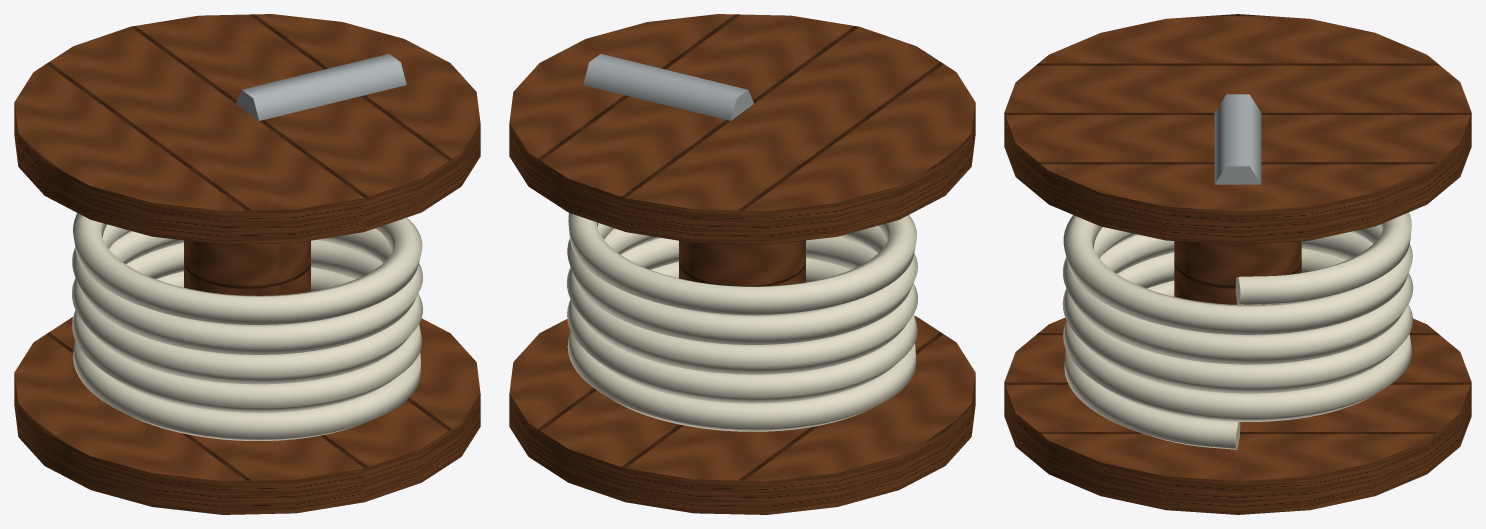
File: creature-husbandry-and-transport-lead-rope-reel-b4b7af09__24019.glb
3 renders of one model, left to right at view 1: azimuth 30°, elevation 25°; view 2: azimuth 150°, elevation 25°; view 3: azimuth 270°, elevation 25°, orthographic.
Parts seen in each view (by area): view 1: lead-rope-reel; view 2: lead-rope-reel; view 3: lead-rope-reel.
Boxes of the visible parts, x1=… form: lead-rope-reel: x1=14, y1=14, x2=480, y2=514; lead-rope-reel: x1=509, y1=14, x2=975, y2=514; lead-rope-reel: x1=1004, y1=14, x2=1471, y2=514.
Bounding box in the file's own units: 0.44 × 0.3341 × 0.44.
3 materials, 1 textured.
